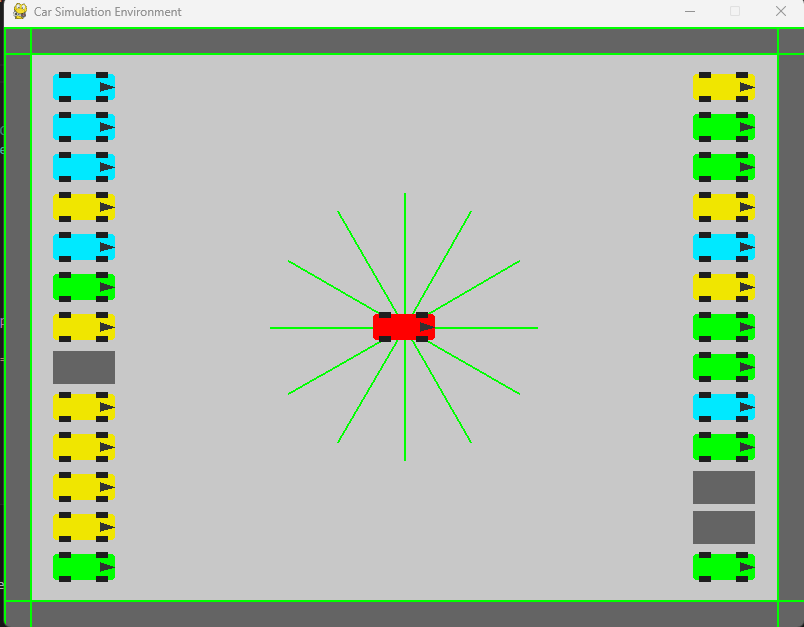ControlledCar: (359, 301, 450, 352)
ParkedCar: (683, 430, 763, 466), (683, 389, 757, 426), (49, 469, 122, 505), (686, 109, 756, 146), (686, 349, 757, 385), (690, 547, 759, 584), (686, 309, 758, 344), (45, 508, 119, 542), (685, 270, 759, 304), (51, 109, 122, 144), (52, 389, 122, 424), (686, 149, 758, 183), (51, 68, 118, 103), (51, 230, 118, 265), (48, 550, 116, 583), (47, 190, 117, 222), (690, 71, 755, 104), (52, 430, 116, 463), (690, 192, 755, 224), (689, 231, 756, 262), (52, 152, 117, 183), (52, 310, 117, 341), (53, 271, 115, 303)
ParkingSpot: (49, 347, 124, 387), (686, 469, 760, 508), (686, 510, 763, 545)
